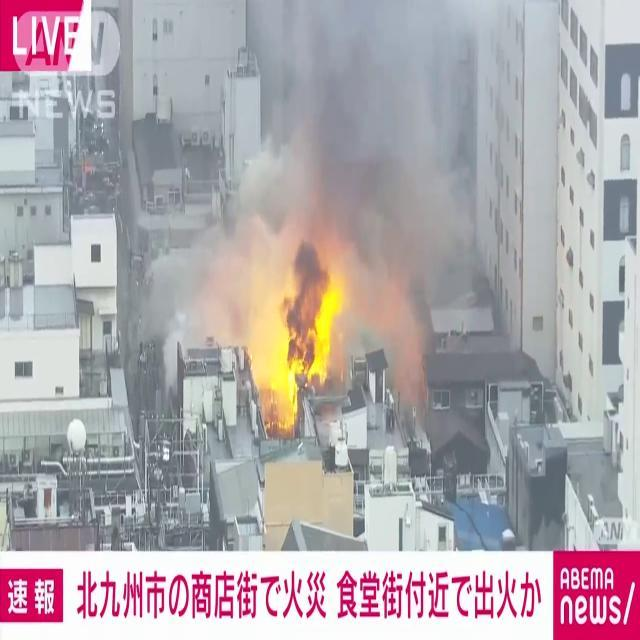Fire: (242, 225, 347, 431)
Smoke: (240, 1, 528, 314)
